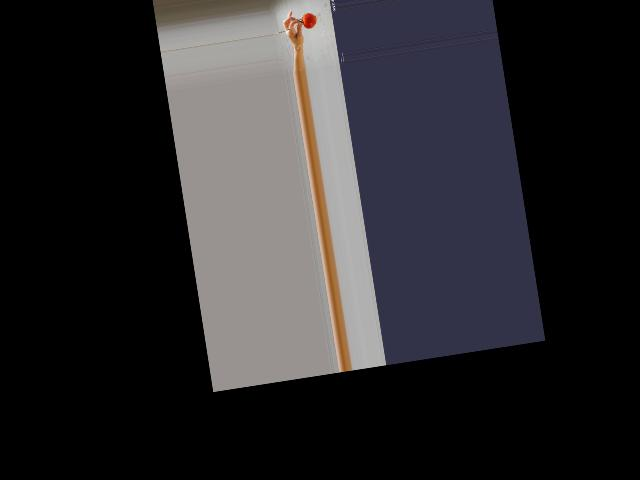tomato: (301, 12, 318, 30)
